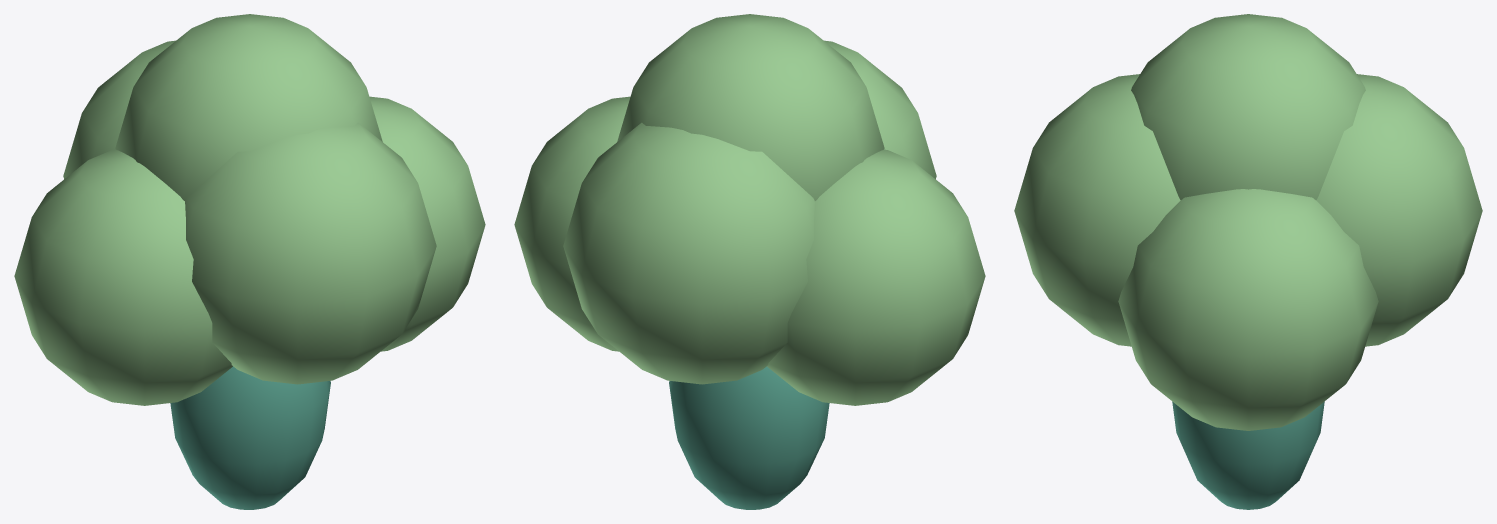
The model's file is broccoli.glb.
3 views of the same model, side by side, from view 1: azimuth 30°, elevation 25°; view 2: azimuth 150°, elevation 25°; view 3: azimuth 270°, elevation 25° (orthographic).
Parts seen in each view (by area): view 1: broccoli; view 2: broccoli; view 3: broccoli.
Part boxes in pixels (bbox=[...]): broccoli: bbox=[14, 14, 485, 509]; broccoli: bbox=[514, 14, 985, 509]; broccoli: bbox=[1014, 14, 1482, 509].
Size of the model in its own units: 1.16 by 1.22 by 1.08.
